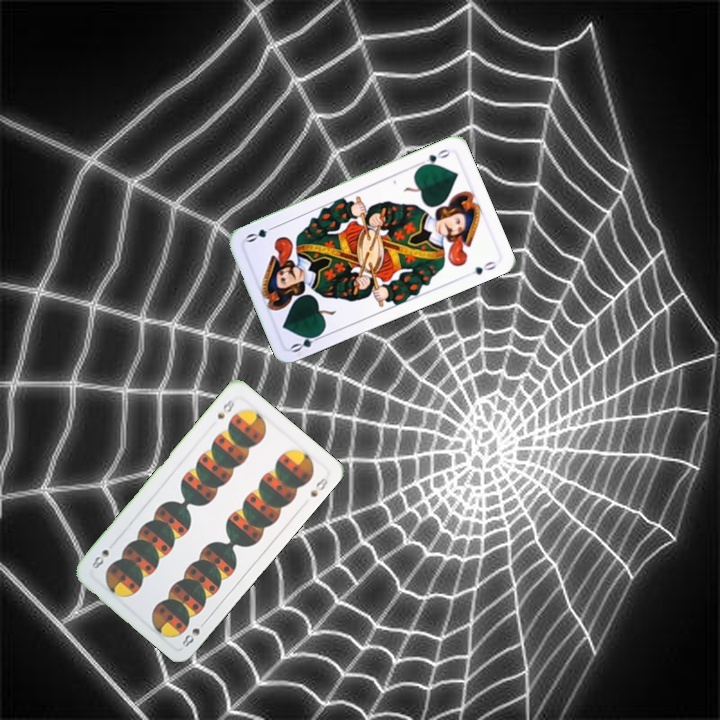GO: (287, 328, 326, 355), (414, 145, 453, 170)
S8: (178, 616, 209, 650), (213, 395, 237, 422)
